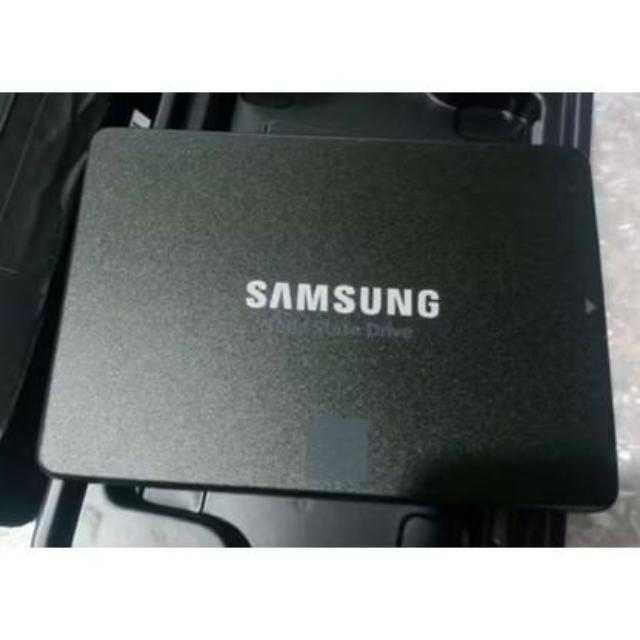DISK: (40, 120, 626, 511)
